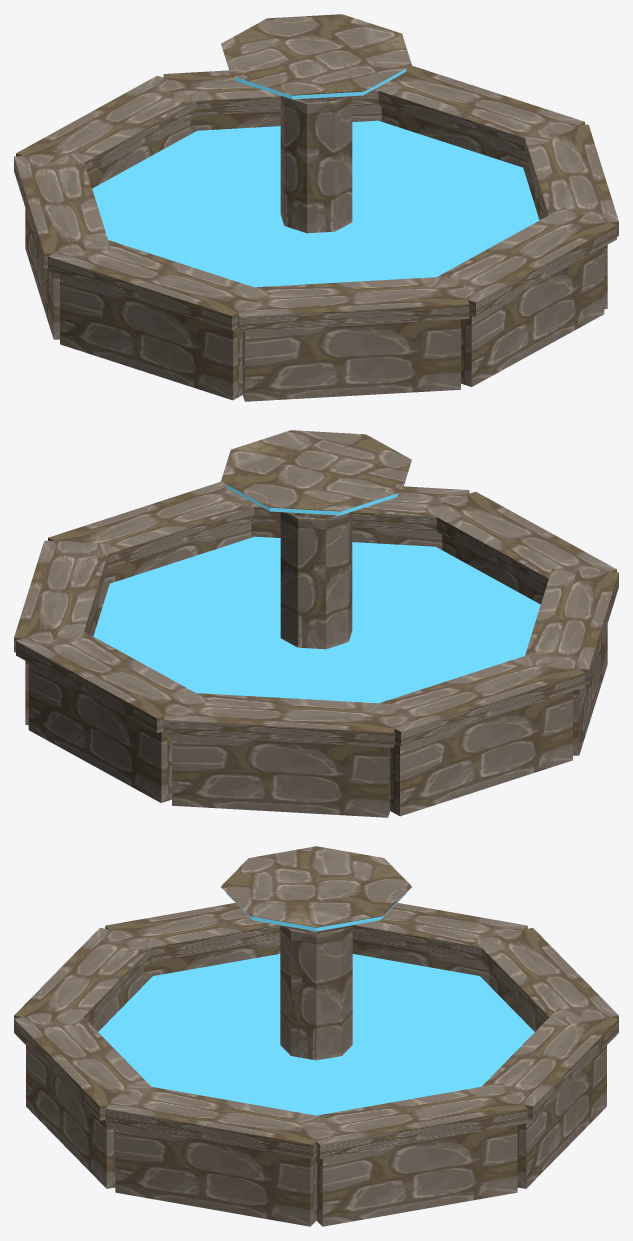
Rendered from Brunnen.gltf.
The picture shows the model from 3 angles, top to bottom: view 1: azimuth 30°, elevation 25°; view 2: azimuth 150°, elevation 25°; view 3: azimuth 270°, elevation 25°; orthographic projection. The views are drawn at different scales.
Parts seen in each view (by area): view 1: Brunnen; view 2: Brunnen; view 3: Brunnen.
Part boxes in pixels (box(x1,y1,x2,y2)): Brunnen: box(14, 14, 618, 401); Brunnen: box(14, 430, 618, 817); Brunnen: box(14, 846, 618, 1226).
Bounding box in the file's own units: 5.36 × 2.12 × 5.36.
2 materials, 1 textured.
